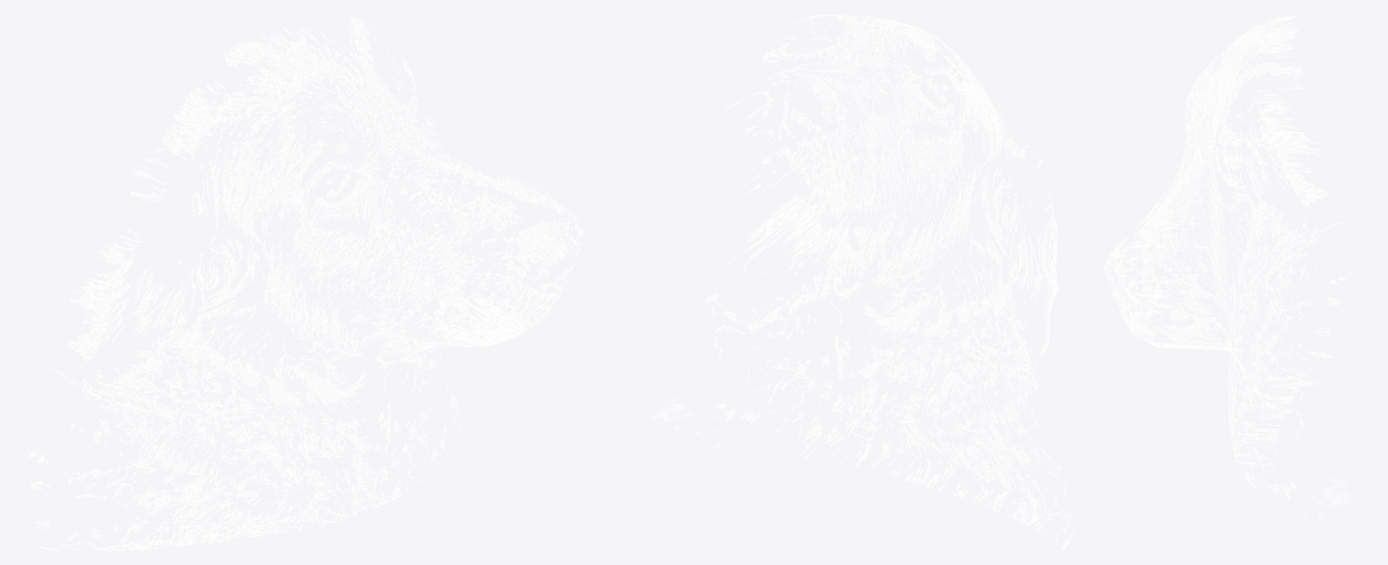
Rendered from engraving_test_4_size_1500.glb.
The picture shows the model from 3 angles, left to right: view 1: azimuth 30°, elevation 25°; view 2: azimuth 150°, elevation 25°; view 3: azimuth 270°, elevation 25°; orthographic projection. The views are drawn at different scales.
Parts seen in each view (by area): view 1: mesh; view 2: mesh; view 3: mesh.
Boxes of the visible parts, <box> form: mesh: <box>21,16,583,550</box>; mesh: <box>652,14,1074,549</box>; mesh: <box>1103,15,1356,524</box>.
Size of the model in its own units: 0.0502 by 0.0505 by 0.0292.
Materials: 1 (1 with a texture image).
